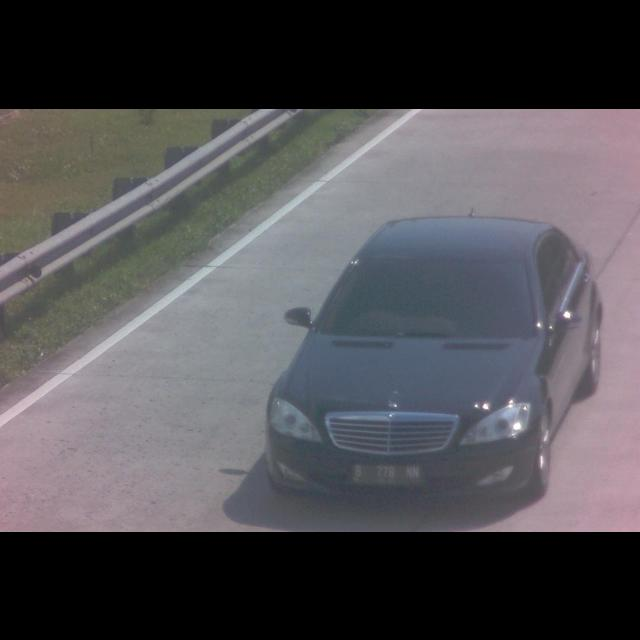plate: (347, 457, 422, 483)
